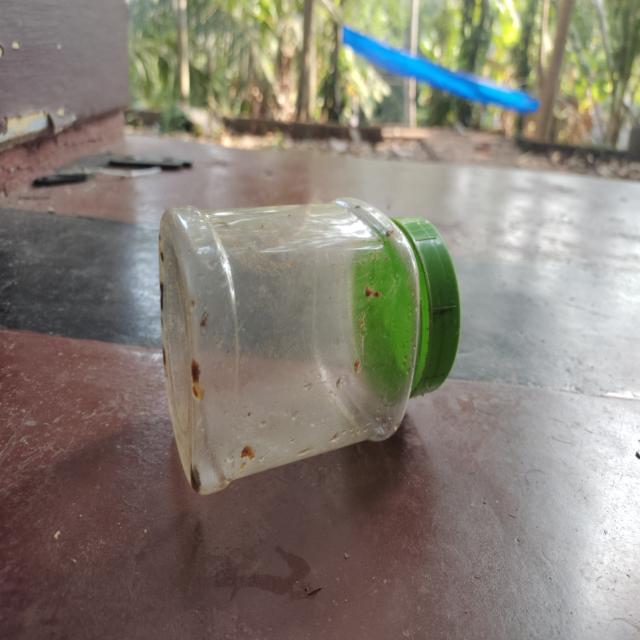plastic: (157, 197, 460, 497)
